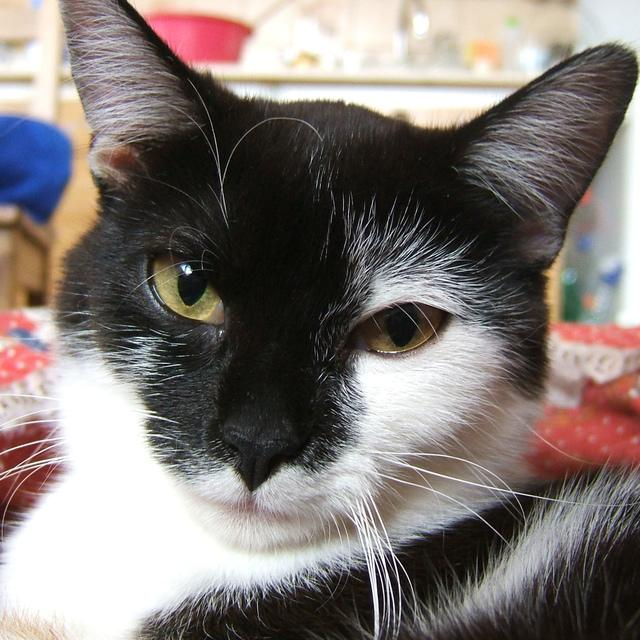animals: (66, 0, 624, 483)
